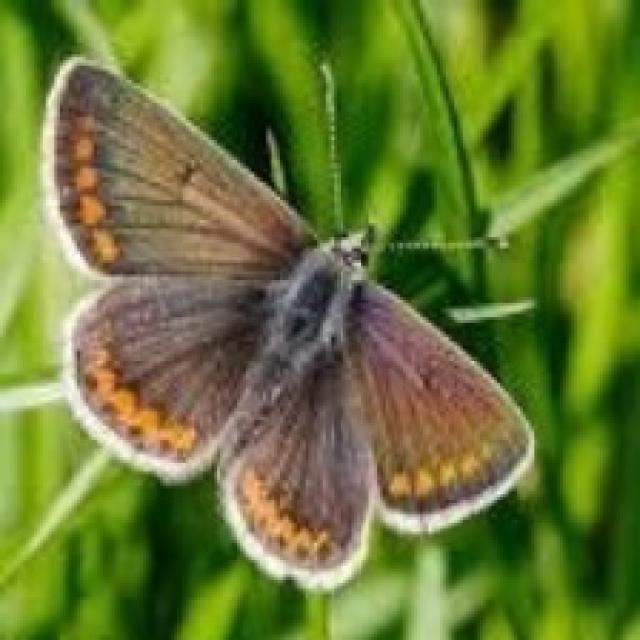butterfly: (37, 51, 534, 592)
